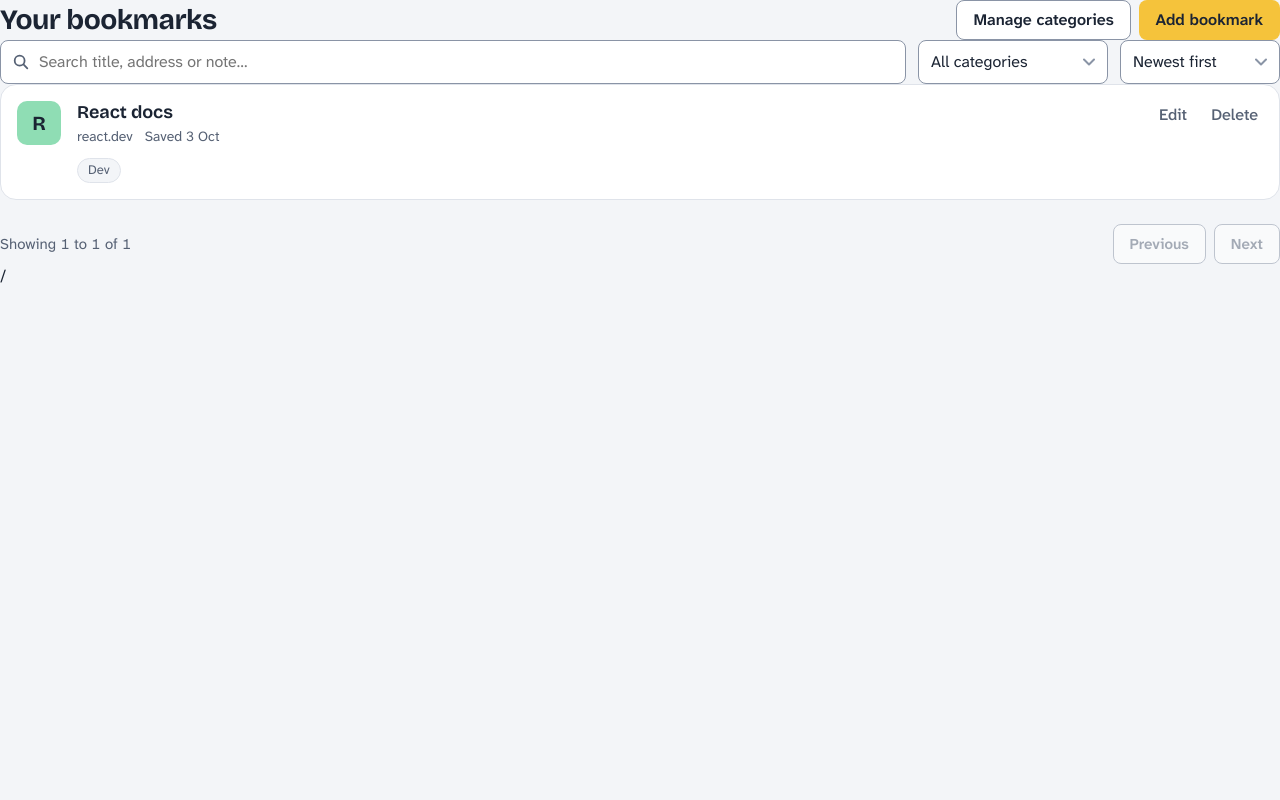
Manage categories › shows a duplicate-name error when renaming
Click the button "Manage categories" at (1044, 20), box [956,0,1131,40]
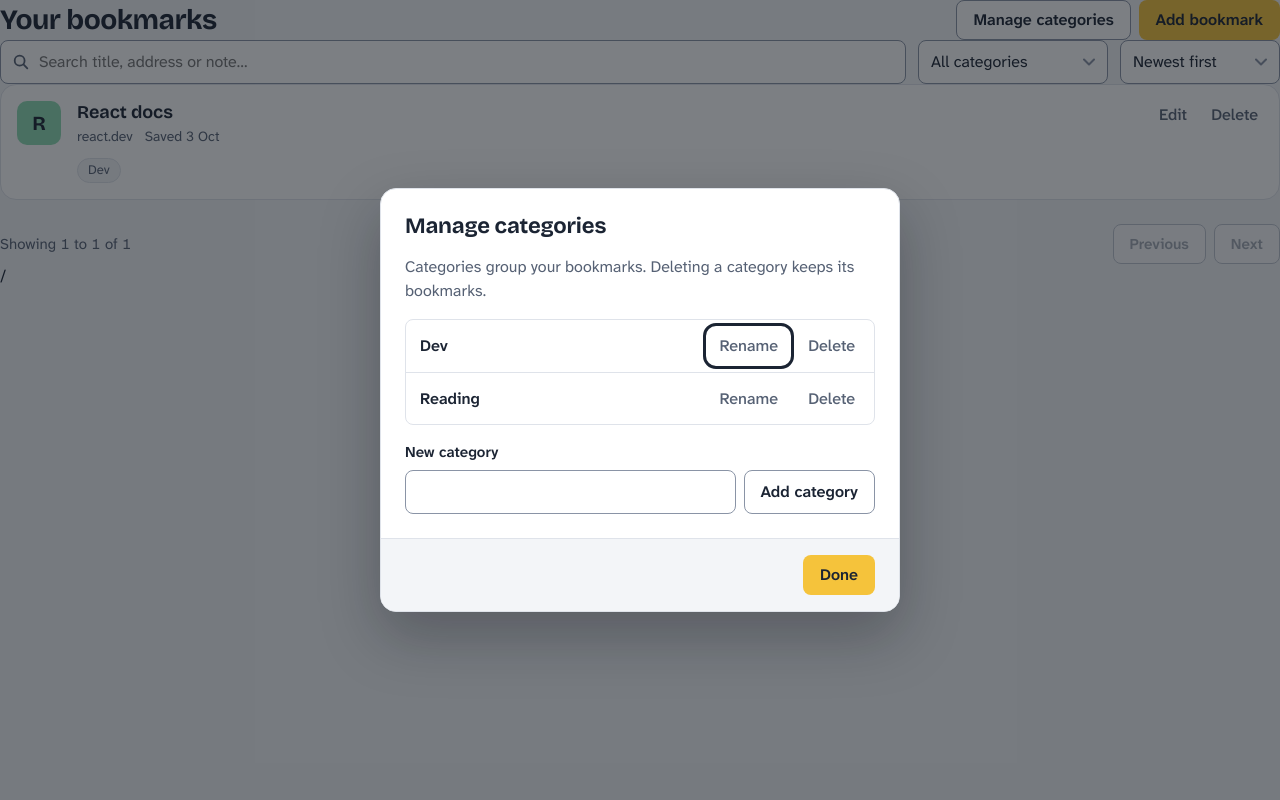
Click the button with aria-label "Rename Dev" at (749, 346), box [708,328,789,364]
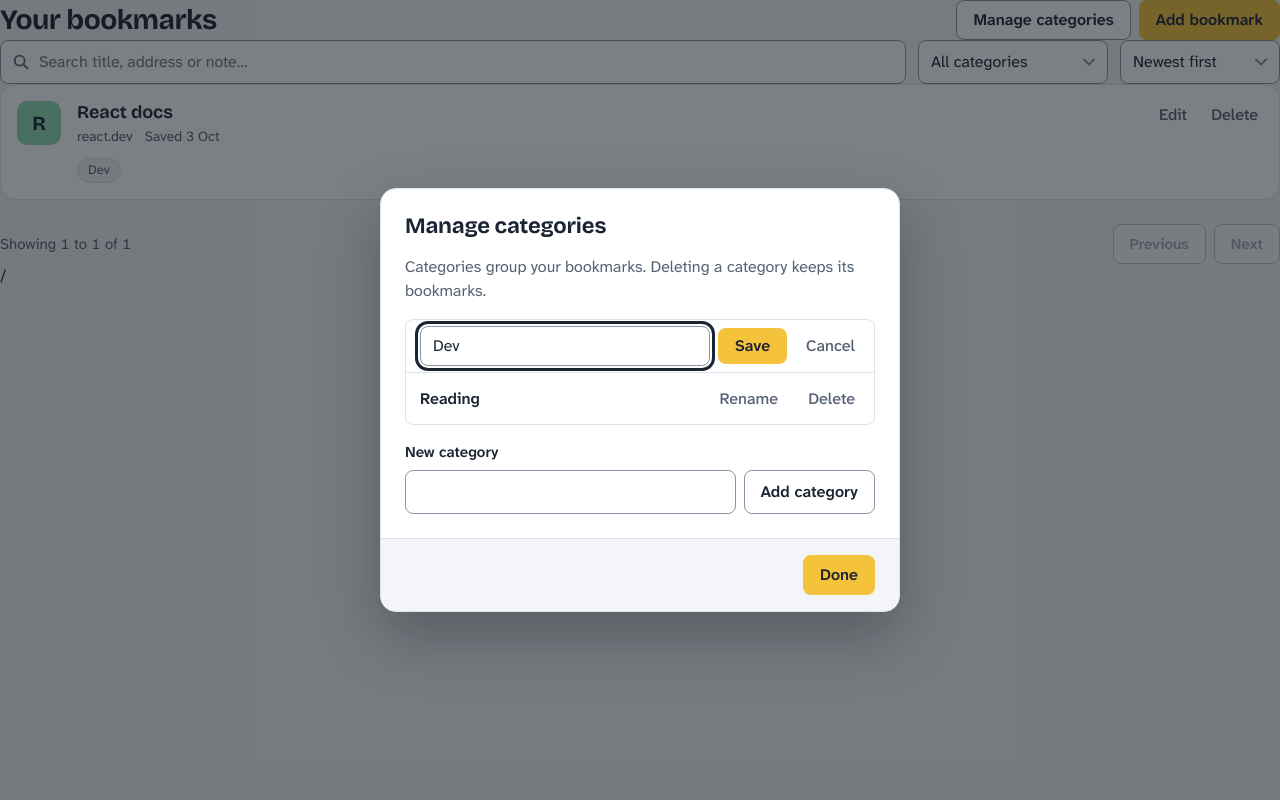
Replace the text in the field named "New name for “Dev”" with "Reading" at (565, 346), box [420,326,710,366]
Then press Enter
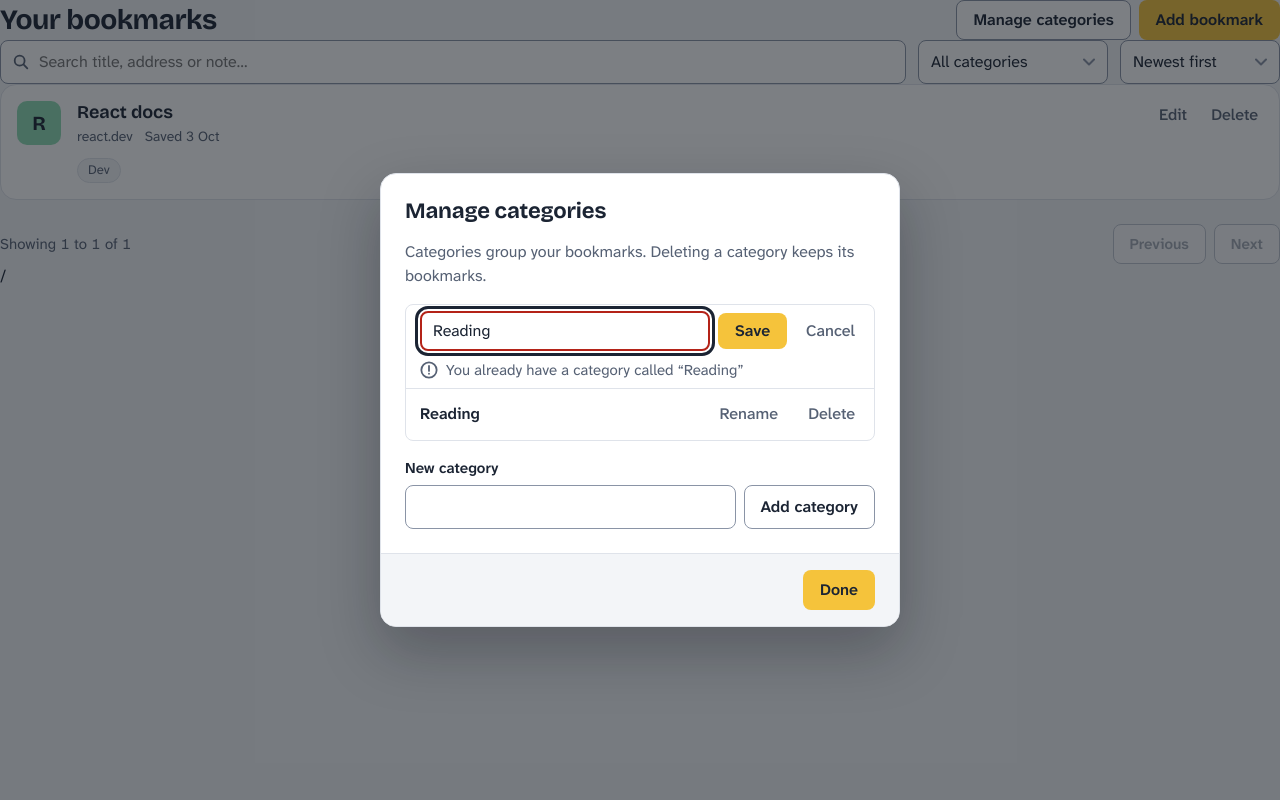
Result: the text "You already have a category called “Reading”" is shown at [446,359,744,382]
